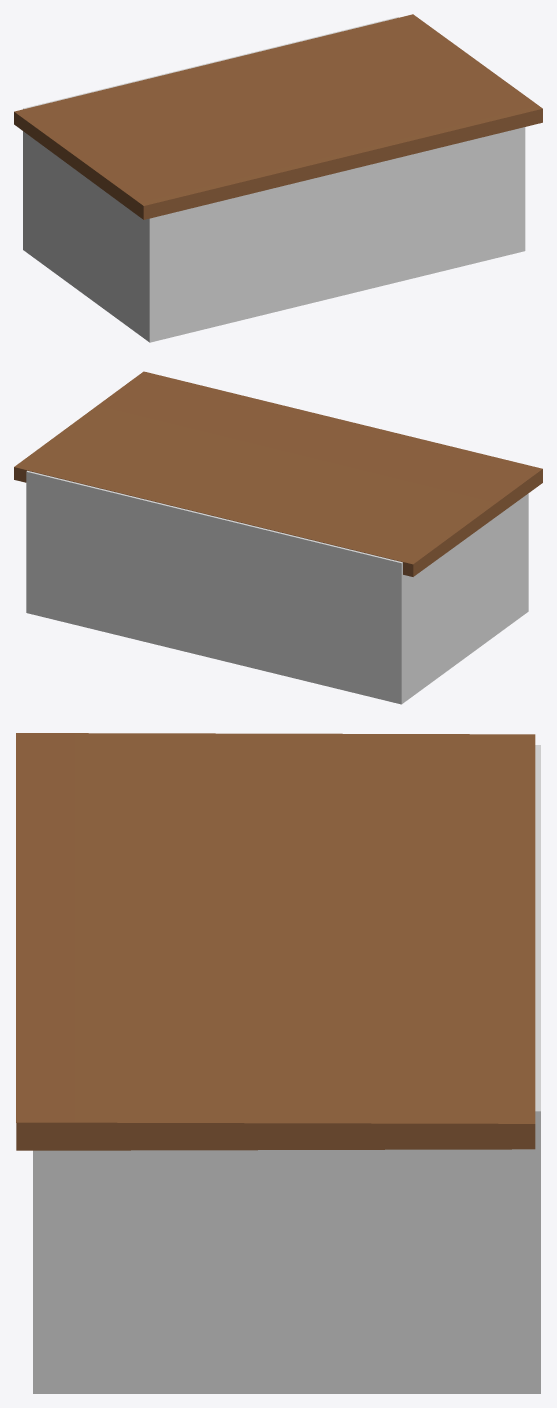
File: market_table_1.glb
3 views of the same model, one above another, from view 1: azimuth 30°, elevation 25°; view 2: azimuth 150°, elevation 25°; view 3: azimuth 270°, elevation 25° (orthographic). The views are drawn at different scales.
Parts seen in each view (by area): view 1: Cube.001, Market_Table_01; view 2: Cube.001, Market_Table_01; view 3: Market_Table_01, Cube.001.
Boxes of the visible parts, x1,y1,x2,y2 form: Cube.001: [23, 17, 525, 342]; Market_Table_01: [14, 14, 542, 219]; Cube.001: [26, 470, 528, 704]; Market_Table_01: [14, 371, 542, 576]; Market_Table_01: [16, 733, 535, 1150]; Cube.001: [33, 745, 540, 1393].
Bounding box in the file's own units: 2.12 × 0.7208 × 1.2.
Materials: 1 (1 with a texture image).
